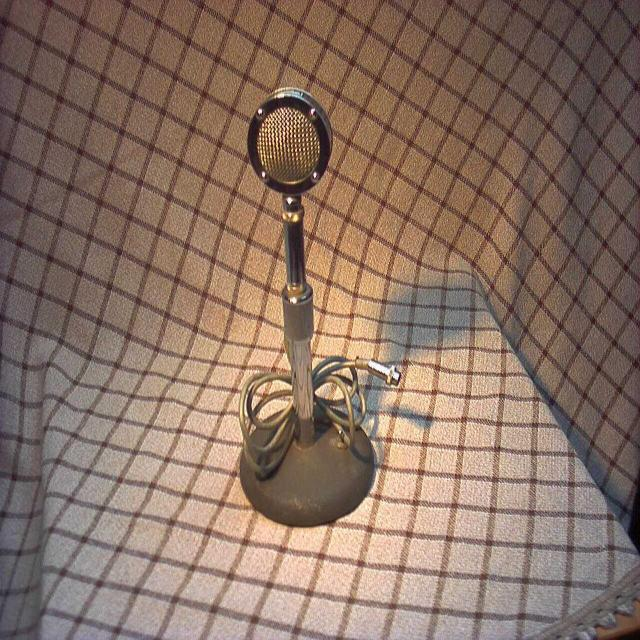microphone: (246, 89, 334, 237)
